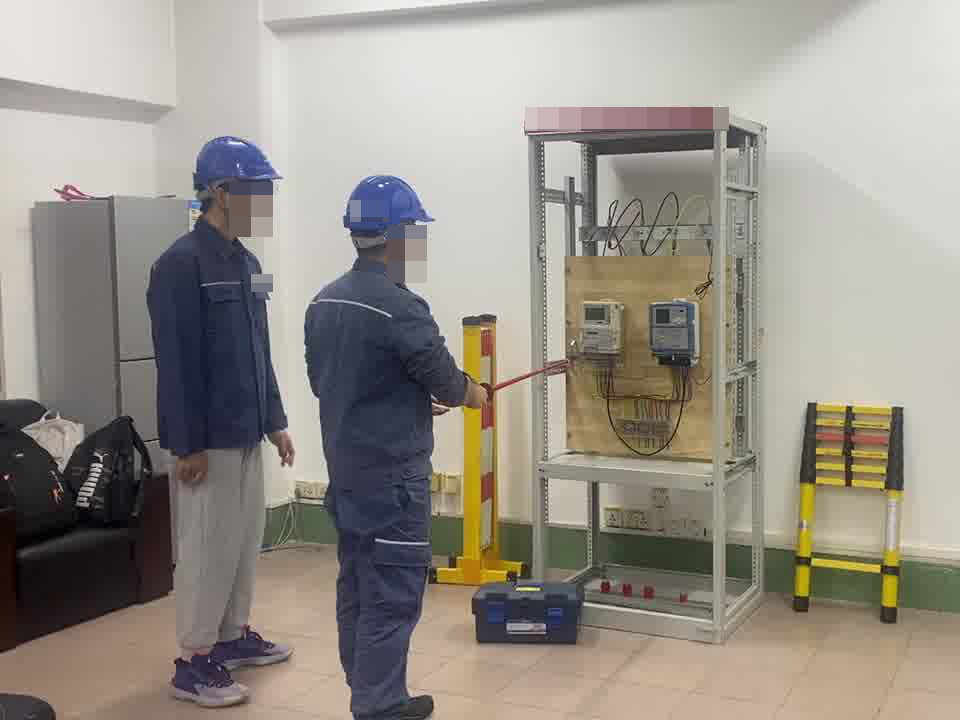downcloth: (161, 448, 270, 645)
downsuit: (325, 481, 437, 720)
halt: (192, 135, 283, 238), (341, 173, 435, 271)
hand: (271, 428, 299, 468), (462, 382, 492, 418), (176, 453, 207, 486)
inear: (205, 184, 244, 219), (381, 226, 412, 265)
person: (302, 166, 478, 719), (144, 134, 291, 714)
testrod: (484, 353, 578, 397)
upsuit: (303, 263, 466, 471), (147, 231, 286, 453)
